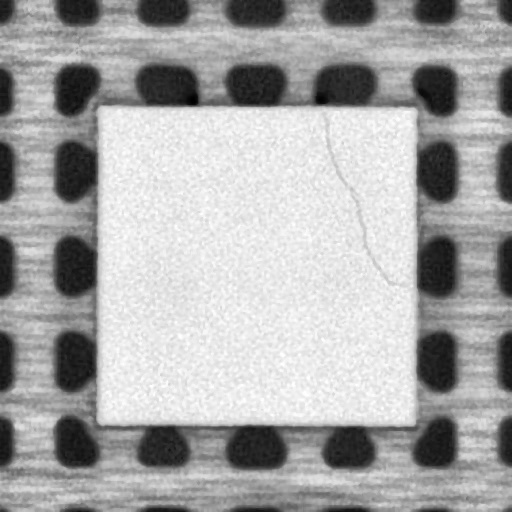DIE_CRACK: (322, 119, 402, 286)
